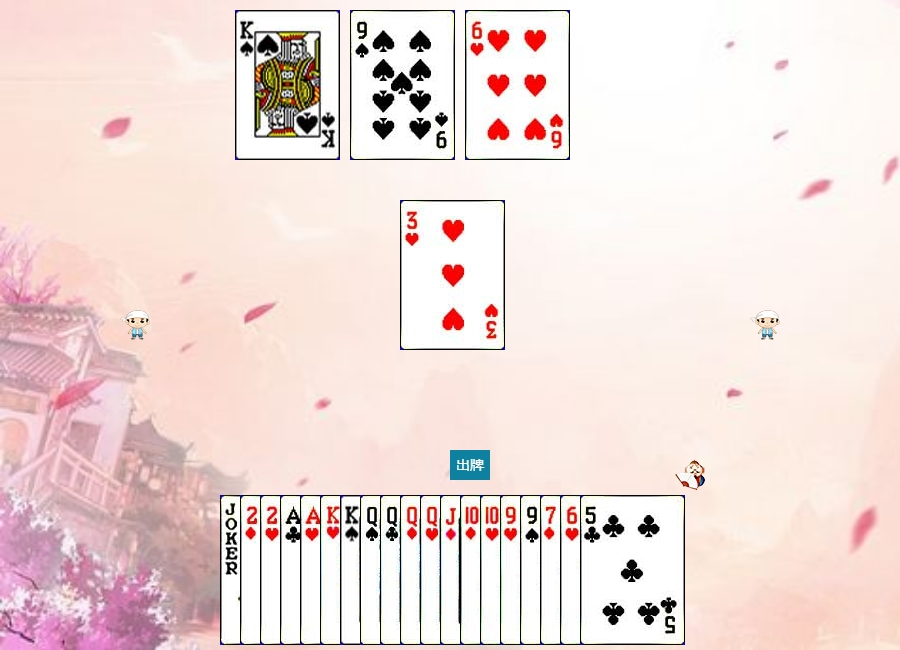10~1: (460, 495, 565, 645)
10~3: (480, 495, 585, 645)
11~1: (440, 495, 545, 645)
12~1: (400, 495, 505, 645)
12~2: (380, 495, 485, 645)
12~3: (420, 495, 525, 645)
12~4: (360, 495, 465, 645)
13~3: (320, 495, 425, 645)
13~4: (235, 10, 340, 160), (340, 495, 445, 645)
14~2: (280, 495, 385, 645)
14~3: (300, 495, 405, 645)
15~1: (240, 495, 345, 645)
15~3: (260, 495, 365, 645)
17~3: (220, 495, 325, 645)
3~3: (400, 200, 505, 350)
5~2: (580, 495, 685, 645)
6~3: (465, 10, 570, 160), (560, 495, 665, 645)
7~1: (540, 495, 645, 645)
9~3: (500, 495, 605, 645)
9~4: (350, 10, 455, 160), (520, 495, 625, 645)
